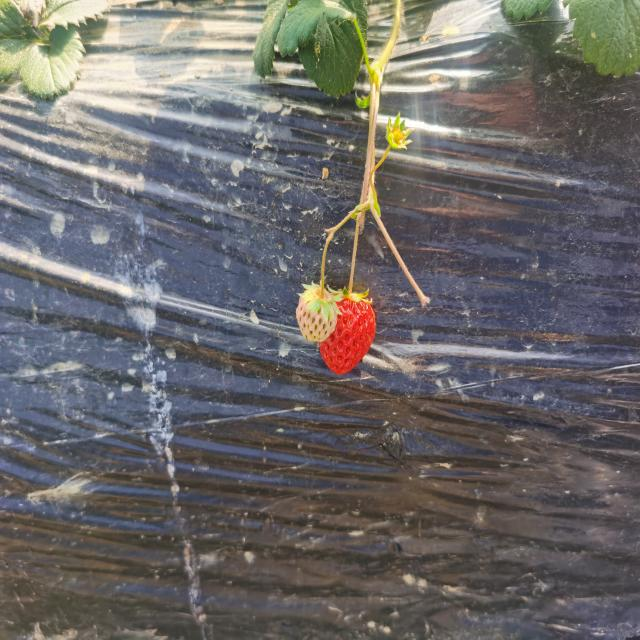stem: (347, 256, 356, 296)
strawberry: (319, 294, 376, 375)
